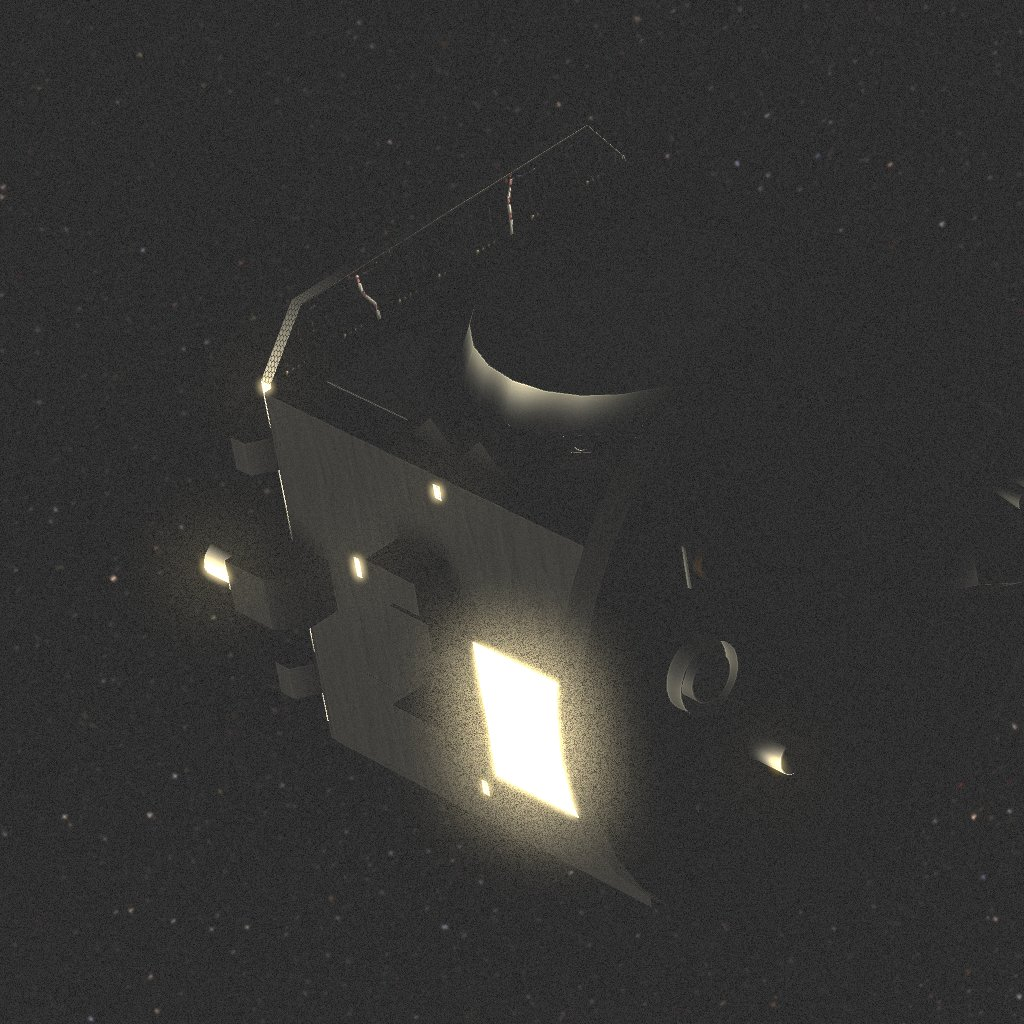proba_3_ocs: (218, 158, 1004, 936)
